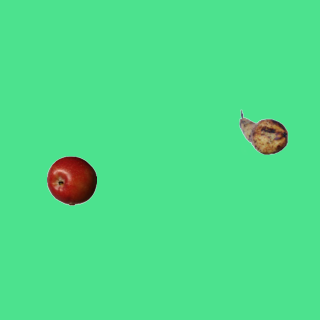Apple Braeburn: (46, 155, 96, 205)
Pear Abate: (238, 107, 288, 157)
